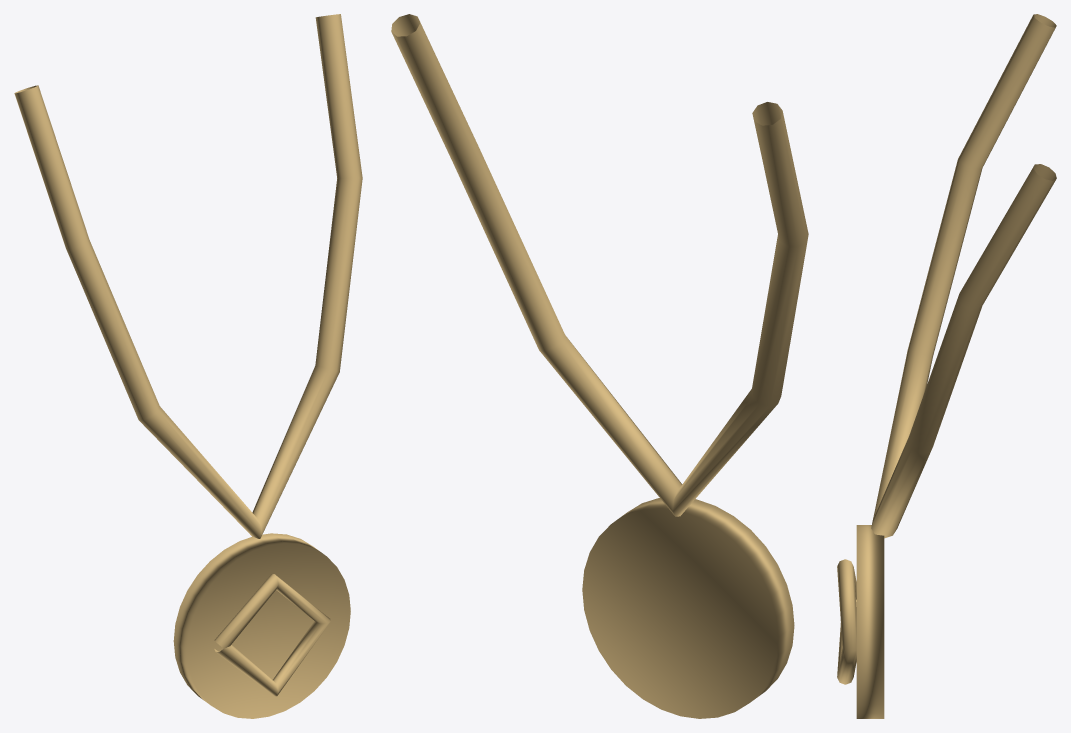
Rendered from pendant.glb.
The picture shows the model from 3 angles, left to right: view 1: azimuth 30°, elevation 25°; view 2: azimuth 150°, elevation 25°; view 3: azimuth 270°, elevation 25°; orthographic projection. The views are drawn at different scales.
Visible parts, largest first — view 1: PendantChain, PendantMedallion, PendantRelief; view 2: PendantMedallion, PendantChain; view 3: PendantChain, PendantMedallion, PendantRelief.
Boxes of the visible parts, x1,y1,x2,y2 form: PendantChain: [14, 14, 362, 538]; PendantMedallion: [173, 533, 350, 718]; PendantRelief: [214, 574, 330, 696]; PendantMedallion: [582, 498, 794, 718]; PendantChain: [391, 14, 808, 516]; PendantChain: [871, 14, 1056, 538]; PendantMedallion: [856, 525, 884, 718]; PendantRelief: [837, 559, 856, 684].
Size of the model in its own units: 0.1388 by 0.2461 by 0.0792.
